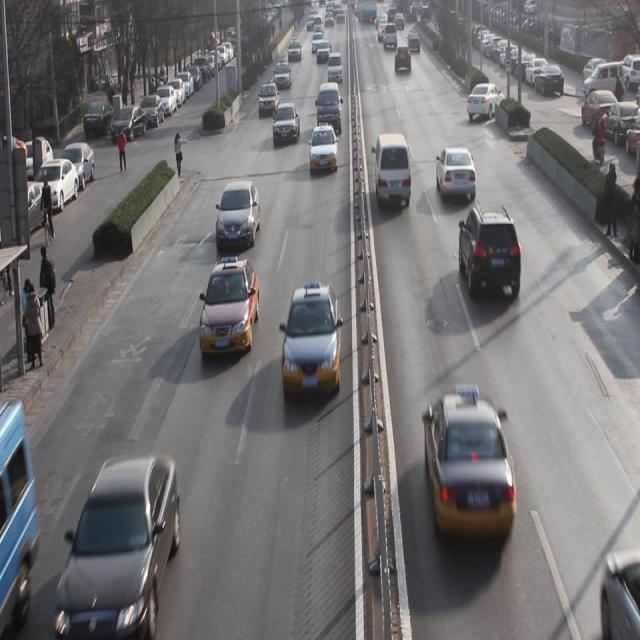car: (59, 464, 179, 640), (424, 390, 515, 542), (282, 283, 342, 401), (458, 204, 522, 302), (200, 258, 260, 358), (214, 181, 261, 249), (434, 143, 478, 205), (467, 78, 502, 121), (309, 124, 338, 174), (272, 102, 300, 147), (259, 79, 279, 117), (272, 58, 291, 90)
truck: (370, 132, 412, 213), (315, 82, 343, 133), (326, 52, 343, 84)
